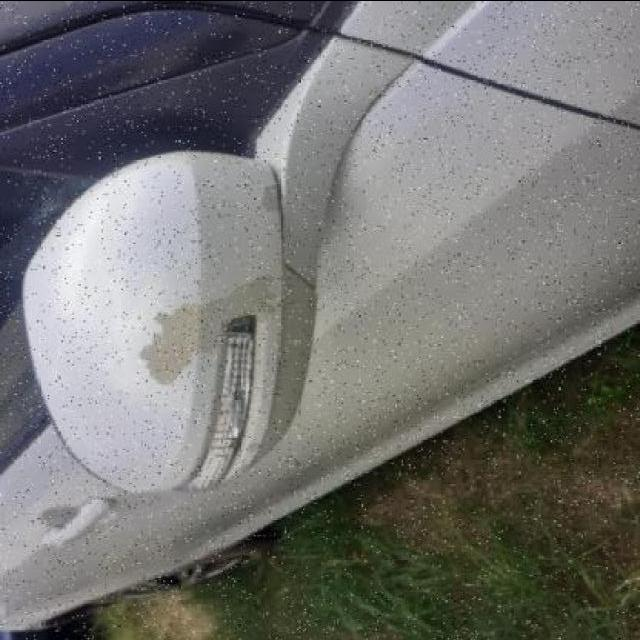Sidemirror-Damage: (13, 137, 350, 494)
